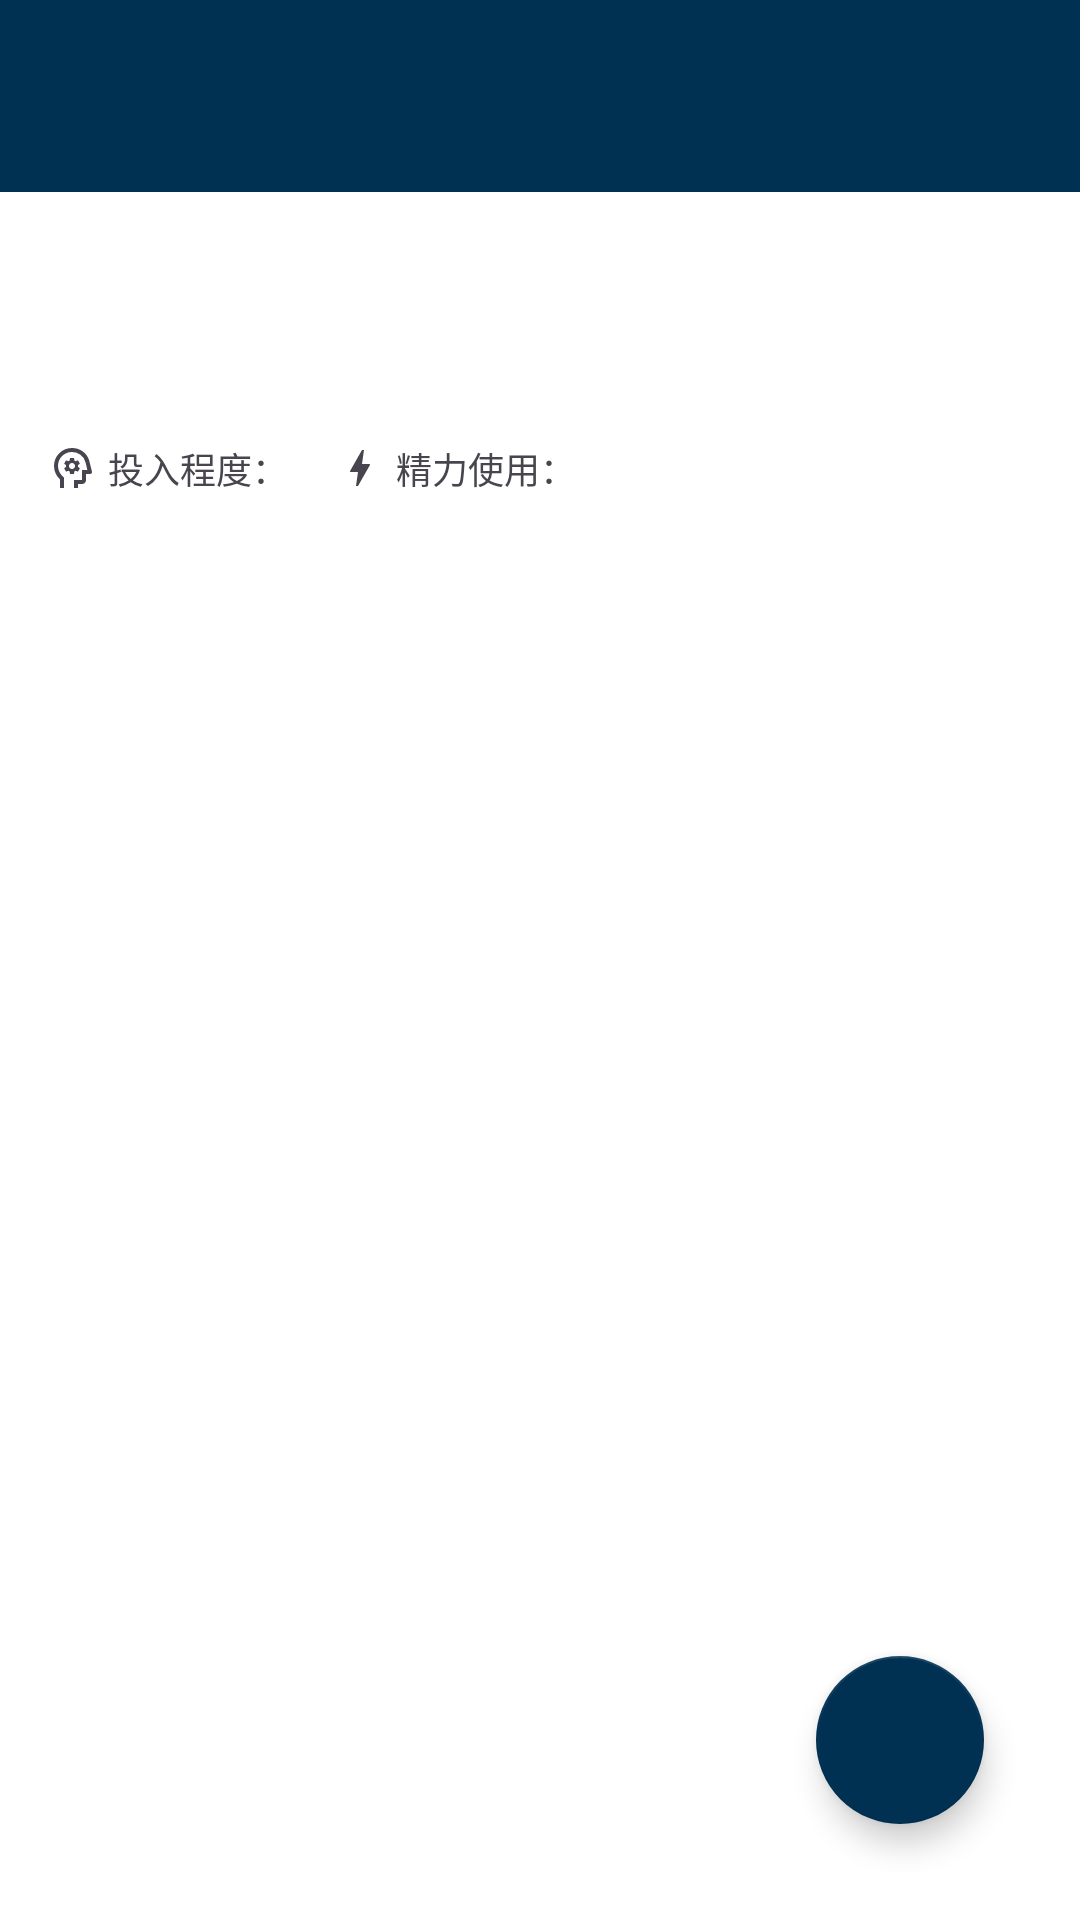

Icon bounding boxes for this 1080px x 1920px phone screenshot, format (x1, y1, x2, y2):
bolt: (350, 450, 370, 486)
psychology: (54, 448, 92, 488)
